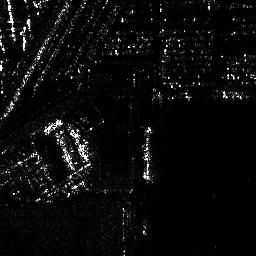ship: (141, 126, 154, 182), (43, 118, 62, 135)
